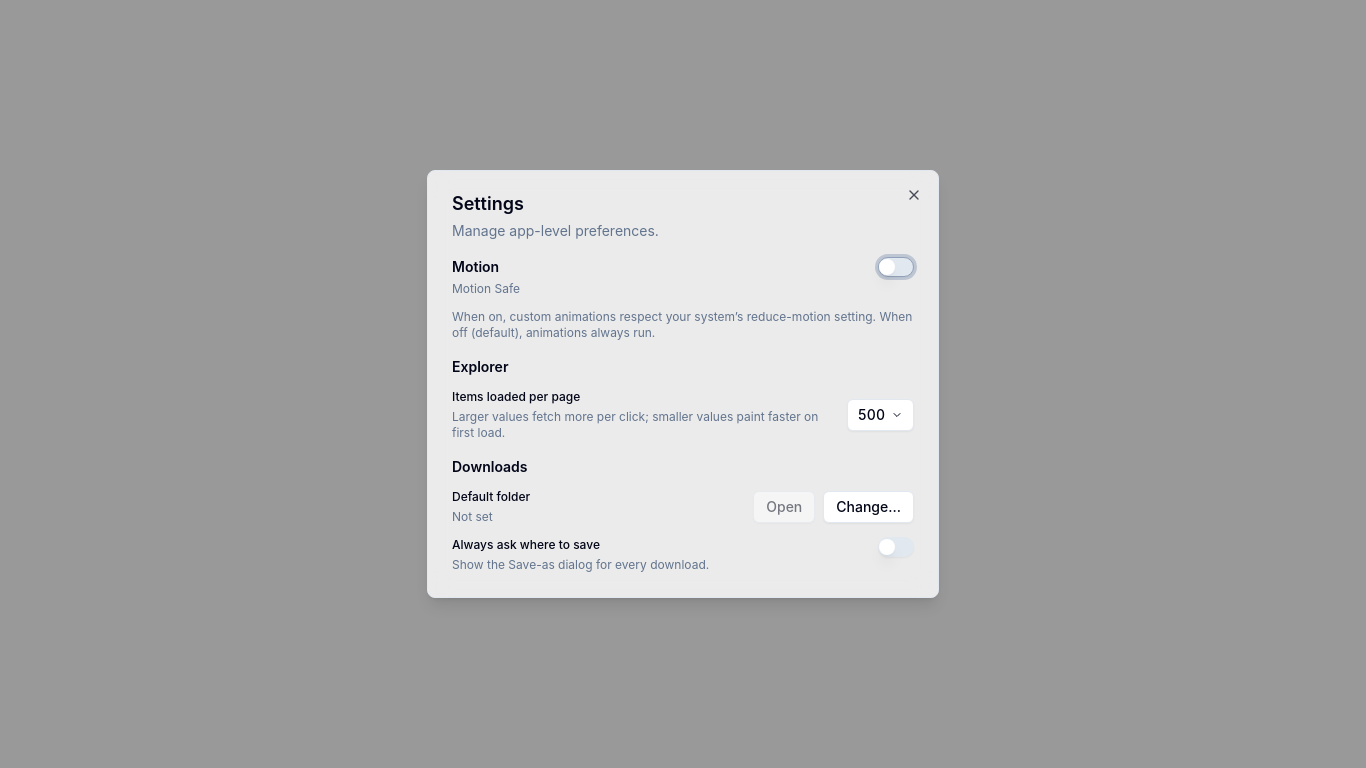
SettingsDialog — Explorer section (page size) › opening the menu shows five radio items with comma-formatted labels and a 'Page size' label
The image size is (1366, 768).
Press the mouse on the button named "items loaded per page" at (880, 415), box [847,399,914,431]
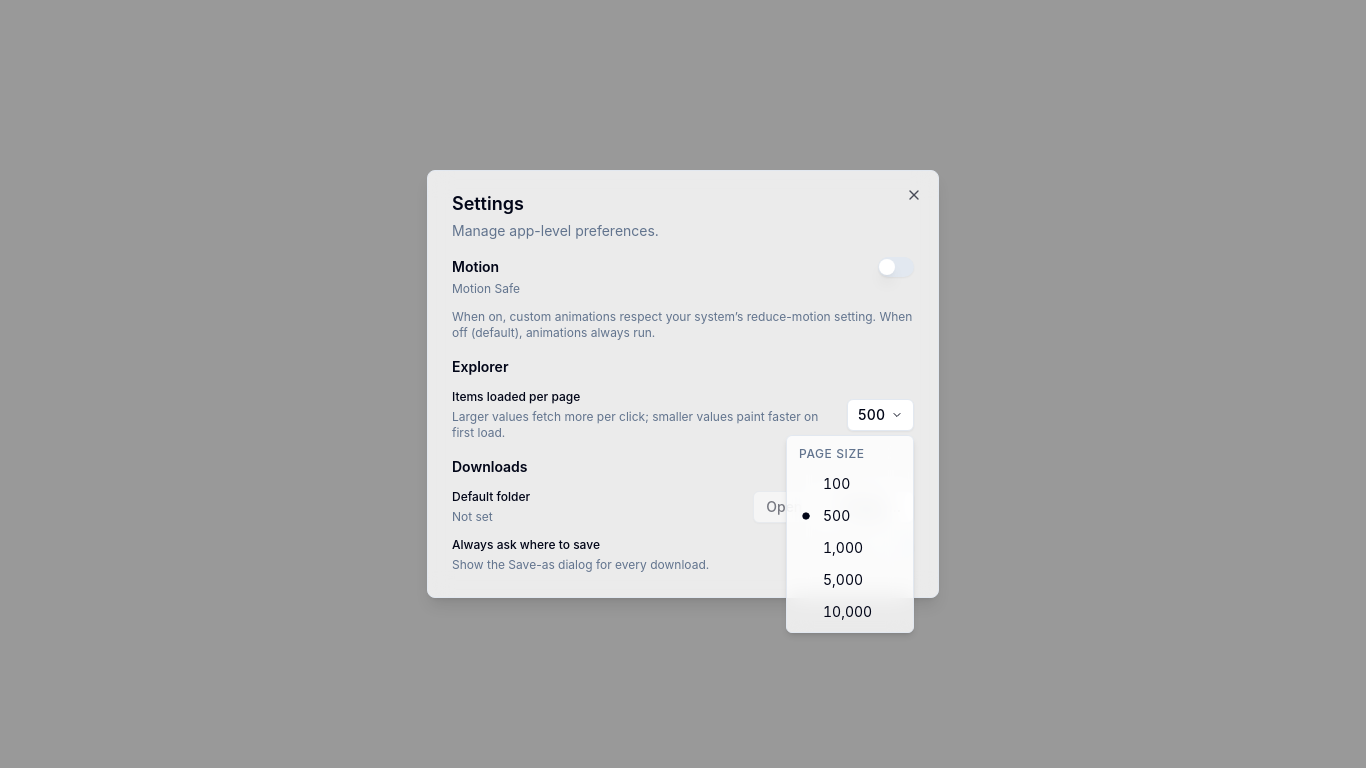
Result: the number of menu items is 5 at [823,475,850,492]; [802,507,850,524]; [823,539,863,556]; [823,571,863,588]; [823,603,872,620]
Result: the text "Page size" is shown at [799,446,865,461]
